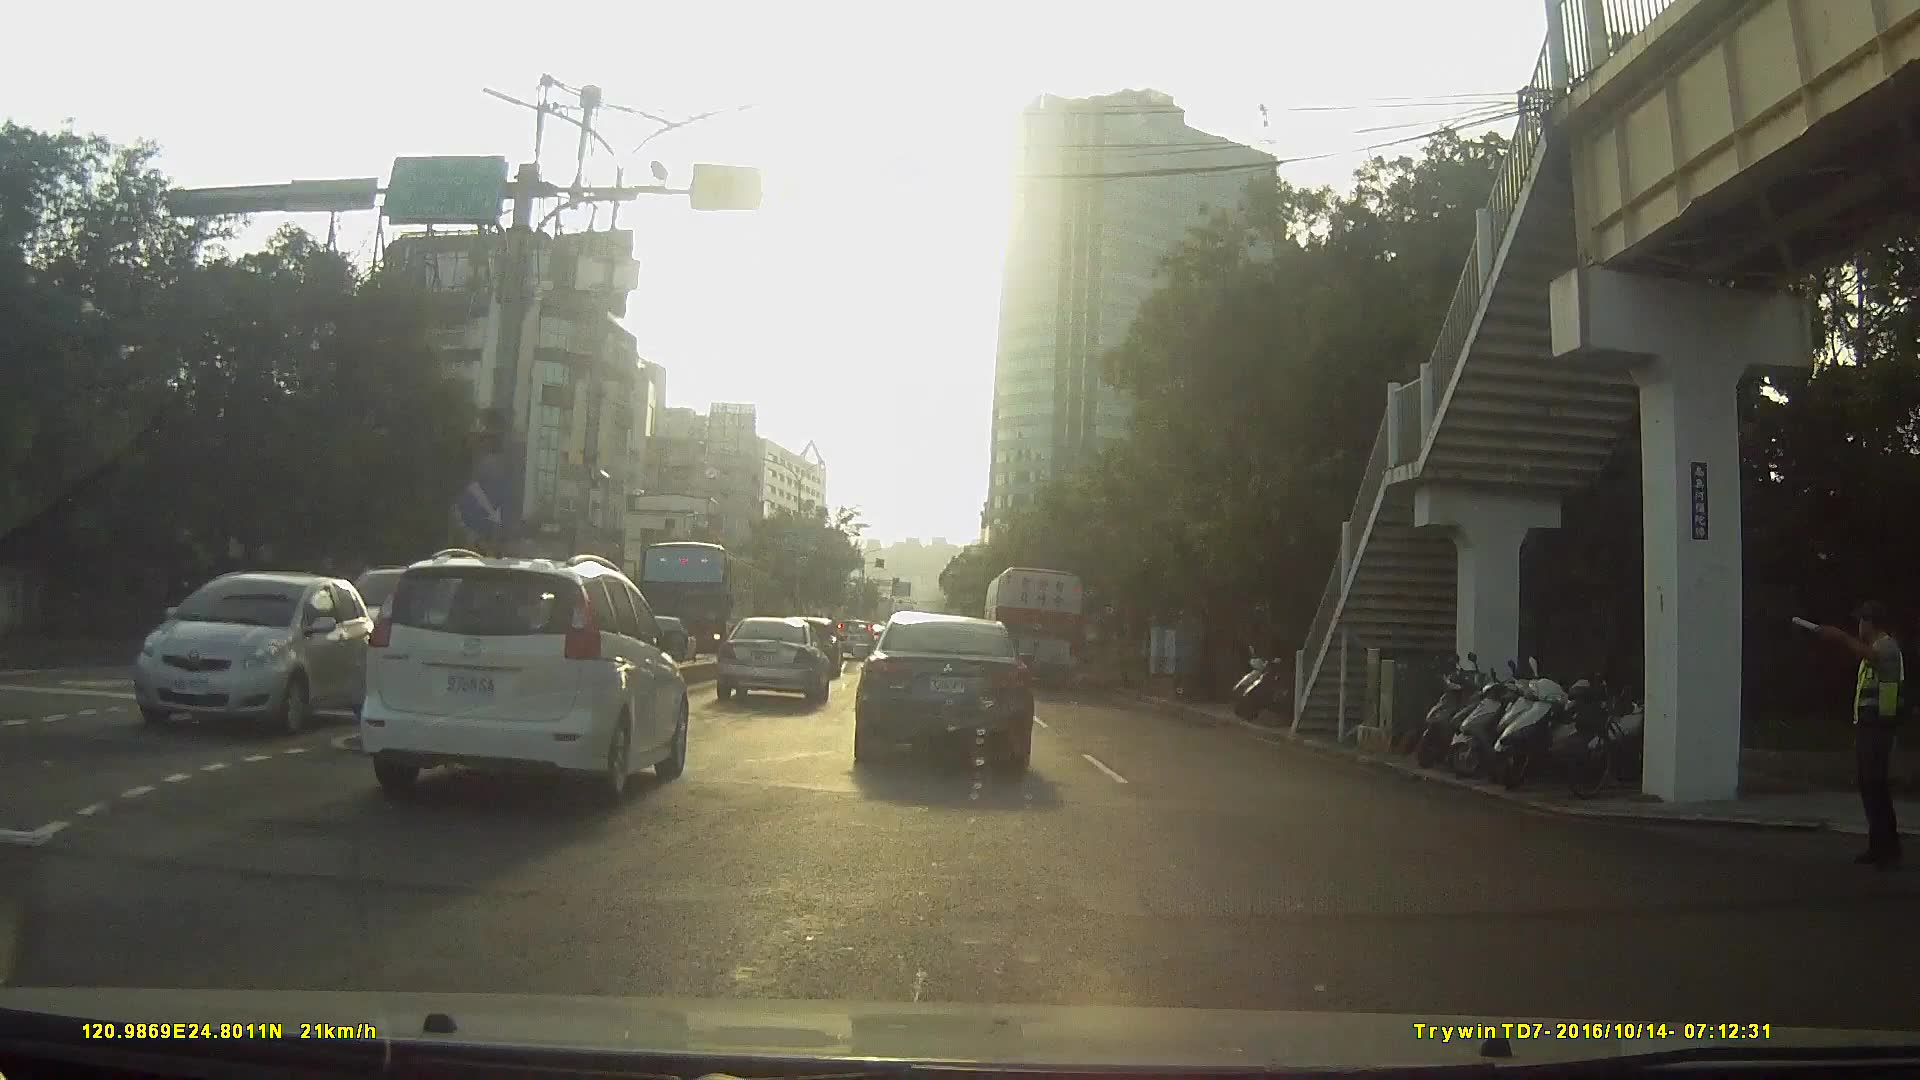pedestrian: (1798, 595, 1907, 866)
vehicle: (250, 556, 684, 868), (360, 546, 690, 802), (111, 565, 382, 752), (854, 607, 1036, 778), (631, 540, 758, 660), (980, 565, 1088, 697), (718, 615, 831, 707), (832, 617, 878, 659)
